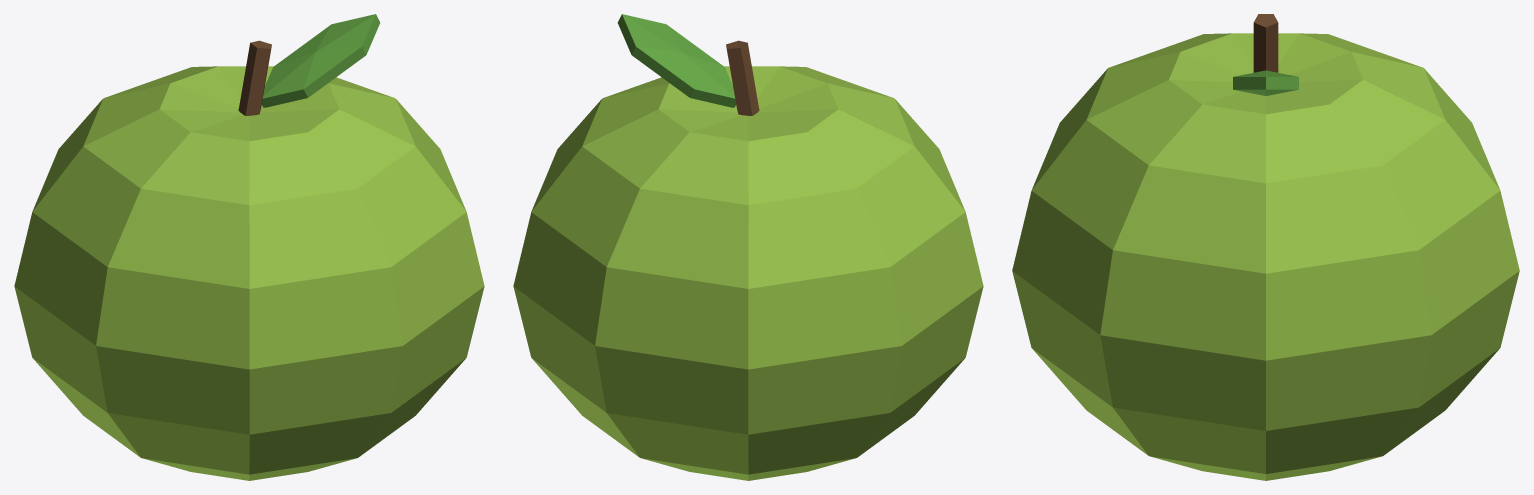
File: Food_GreenApple.obj
3 views of the same model, side by side, from view 1: azimuth 30°, elevation 25°; view 2: azimuth 150°, elevation 25°; view 3: azimuth 270°, elevation 25° (orthographic). The views are drawn at different scales.
Size of the model in its own units: 1.94 by 1.84 by 1.97.
